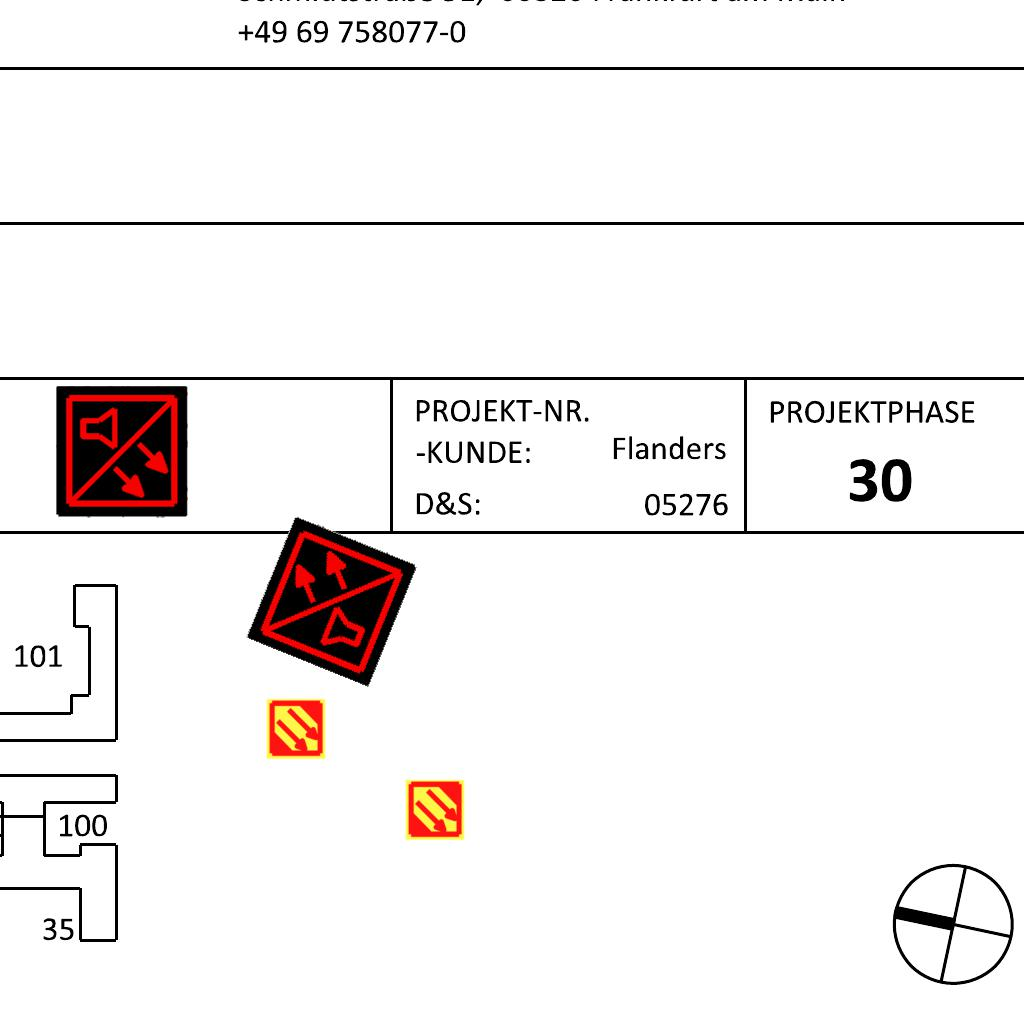ASR_Ansaugrauchmelder: (265, 698, 327, 760), (404, 779, 466, 841)
OKW_Multisensormelder_(Kombination_optischer_Rauch-Kahlenmonoxid_Waerme-Melder): (246, 515, 418, 687), (56, 386, 188, 518)
